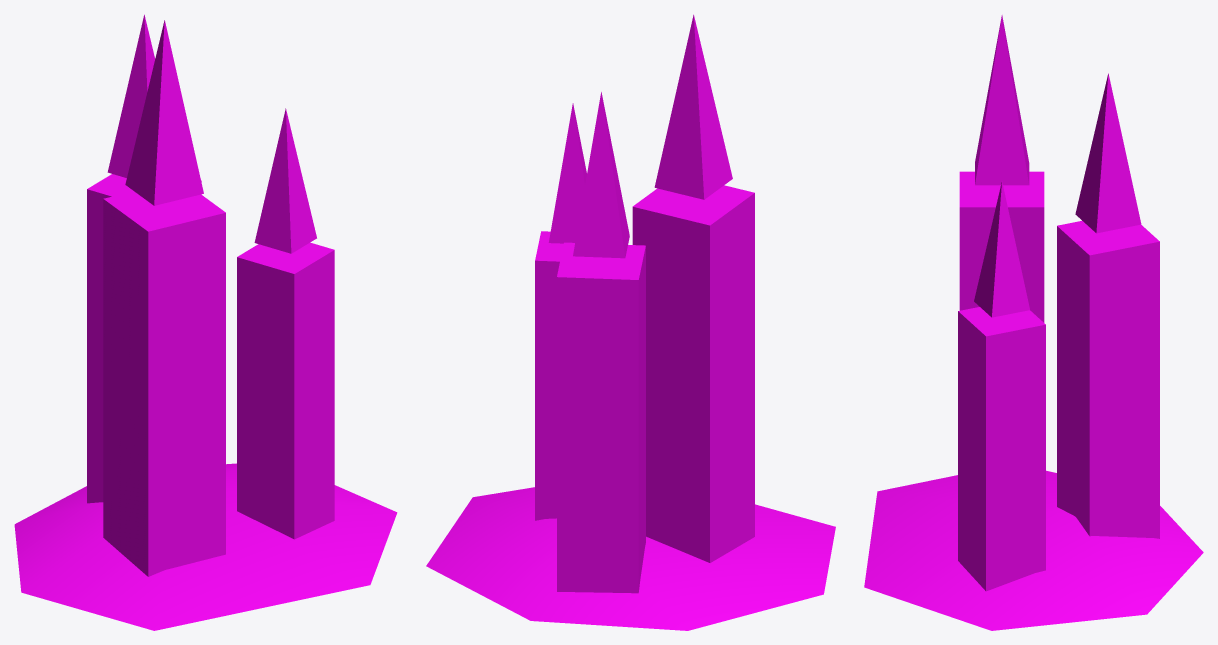
3 renders of one model, left to right at view 1: azimuth 30°, elevation 25°; view 2: azimuth 150°, elevation 25°; view 3: azimuth 270°, elevation 25°, orthographic. The views are drawn at different scales.
Parts seen in each view (by area): view 1: candle_j_02; view 2: candle_j_02; view 3: candle_j_02.
Part boxes in pixels (left/top/right/bottom): candle_j_02: left=14, top=14, right=397, bottom=630; candle_j_02: left=426, top=14, right=835, bottom=630; candle_j_02: left=864, top=15, right=1203, bottom=630.
Size of the model in its own units: 0.00864 by 0.0123 by 0.00741.
